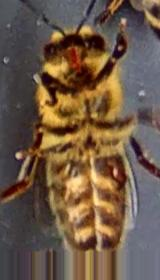varroa_mite: (96, 154, 132, 190)
